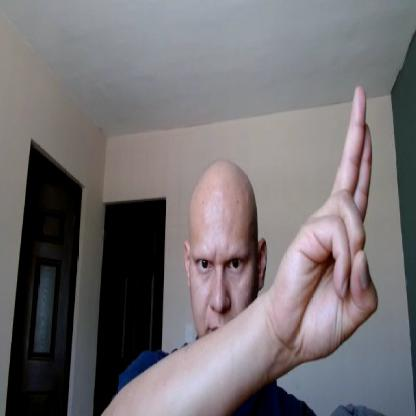U: (280, 84, 379, 361)
